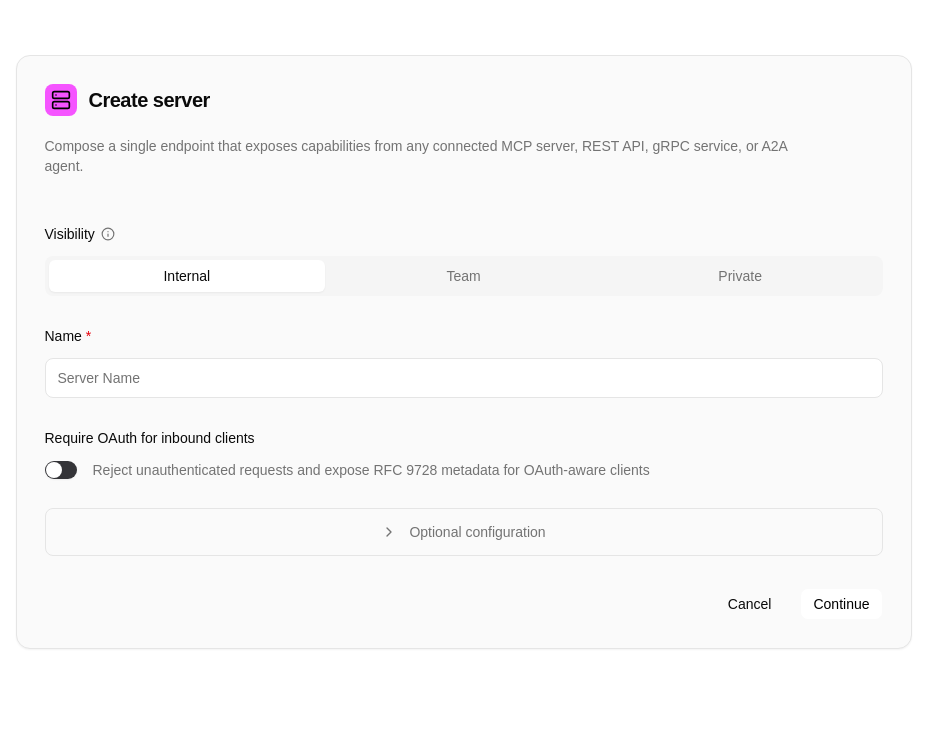
Test: CreateServer › shows optional configuration fields when expanded
The image size is (929, 745).
Click the button "Optional configuration".
click(464, 532)  # box [44, 508, 882, 556]
(page scrolled)
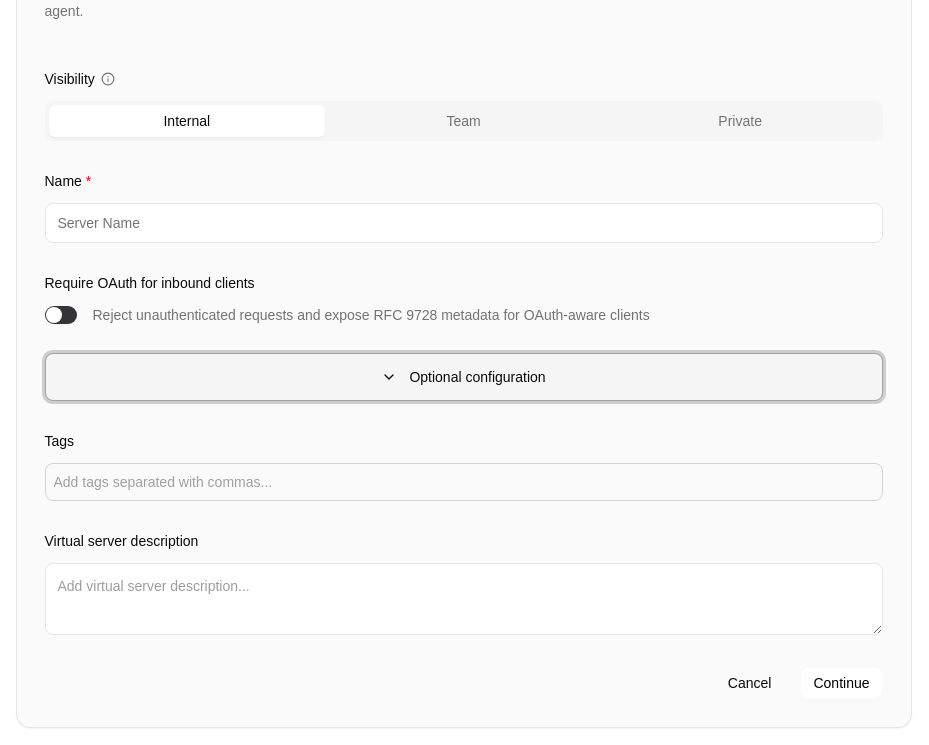
Result: the button "Optional configuration" is expanded at [44, 353, 882, 401]
Result: the dropdown labelled "Tags" is shown at [54, 472, 874, 492]
Result: the text box labelled "Virtual server description" is shown at [44, 563, 882, 635]
